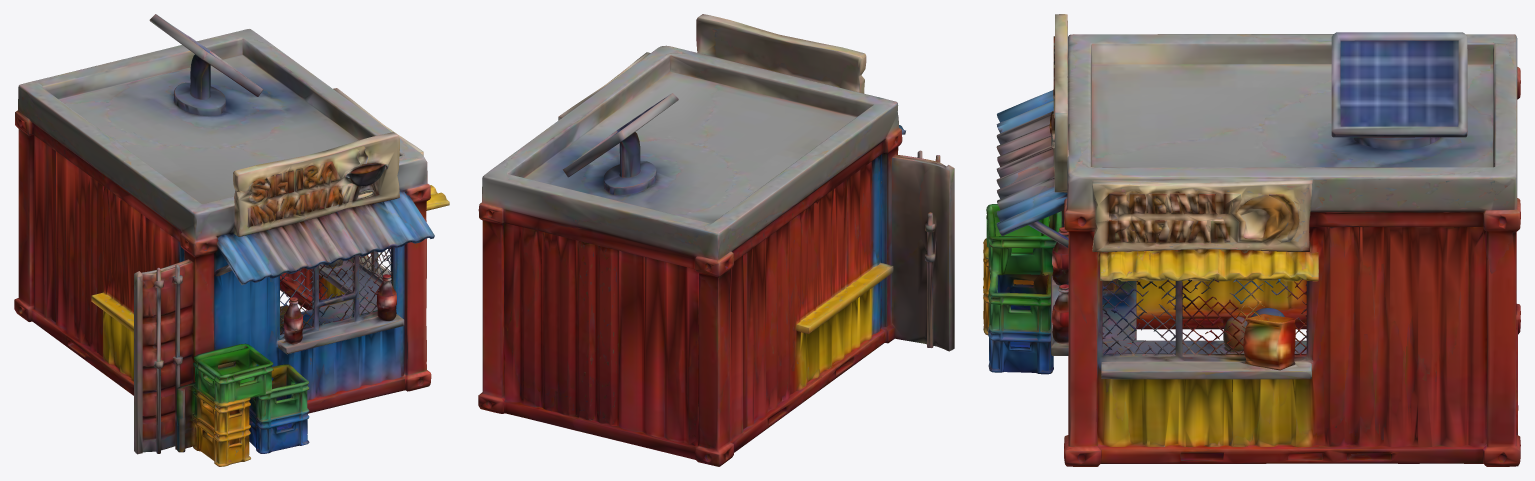
Rendered from SpazaShop.glb.
3 renders of one model, left to right at view 1: azimuth 30°, elevation 25°; view 2: azimuth 150°, elevation 25°; view 3: azimuth 270°, elevation 25°, orthographic. The views are drawn at different scales.
Parts seen in each view (by area): view 1: node_0; view 2: node_0; view 3: node_0.
Part boxes in pixels (<box>): node_0: <box>14,14,449,466</box>; node_0: <box>478,14,954,466</box>; node_0: <box>983,14,1520,466</box>.
Bounding box in the file's own units: 0.7468 × 0.6322 × 0.8494.
Materials: 1 (1 with a texture image).
